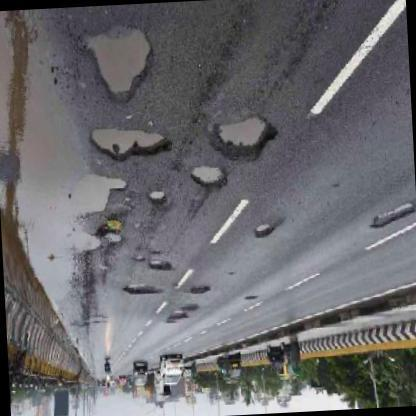pothole: (79, 24, 159, 107), (207, 116, 280, 164), (67, 168, 130, 218), (90, 123, 174, 159), (371, 198, 415, 233), (189, 162, 233, 190), (74, 230, 123, 254), (168, 300, 202, 326), (146, 188, 172, 209), (148, 254, 174, 274), (123, 282, 160, 296), (256, 218, 276, 240), (188, 280, 210, 295)
